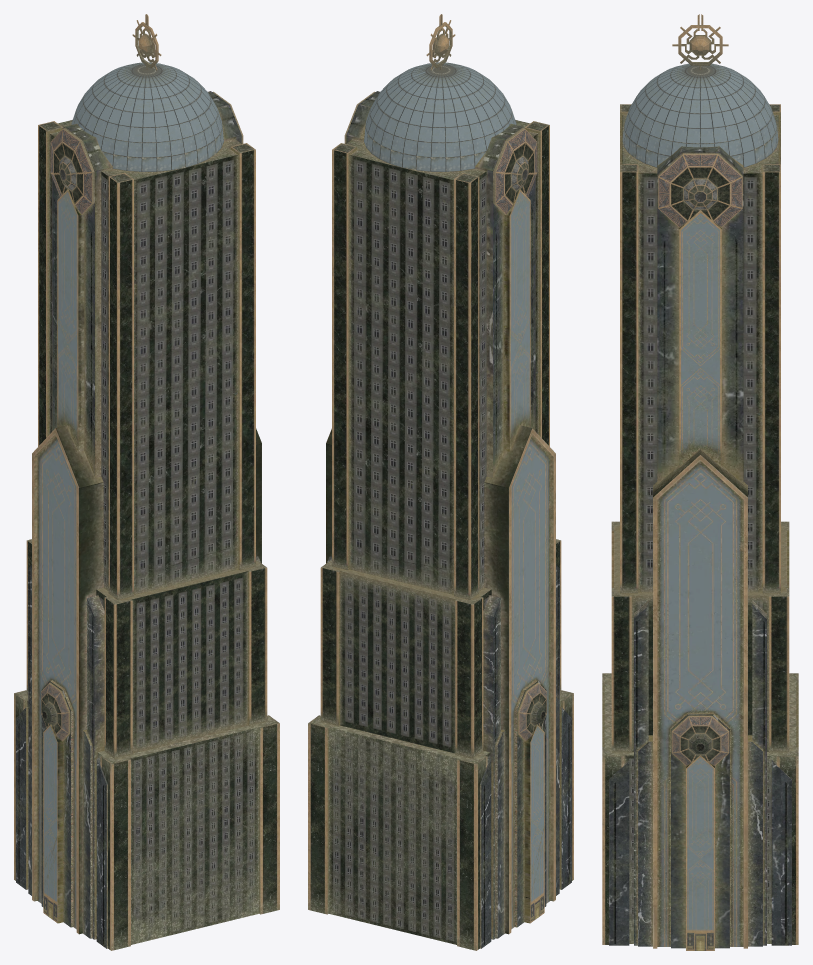
The model's file is building-1-transformed.glb.
3 renders of one model, left to right at view 1: azimuth 30°, elevation 25°; view 2: azimuth 150°, elevation 25°; view 3: azimuth 270°, elevation 25°, orthographic.
Visible parts, largest first — view 1: BUILDING 11; view 2: BUILDING 11; view 3: BUILDING 11.
Part boxes in pixels (x1,y1,x2,y2): BUILDING 11: [14, 14, 279, 950]; BUILDING 11: [308, 14, 573, 950]; BUILDING 11: [602, 14, 798, 950].
Size of the model in its own units: 15.65 by 64.42 by 12.91.
Materials: 14 (14 with a texture image).
